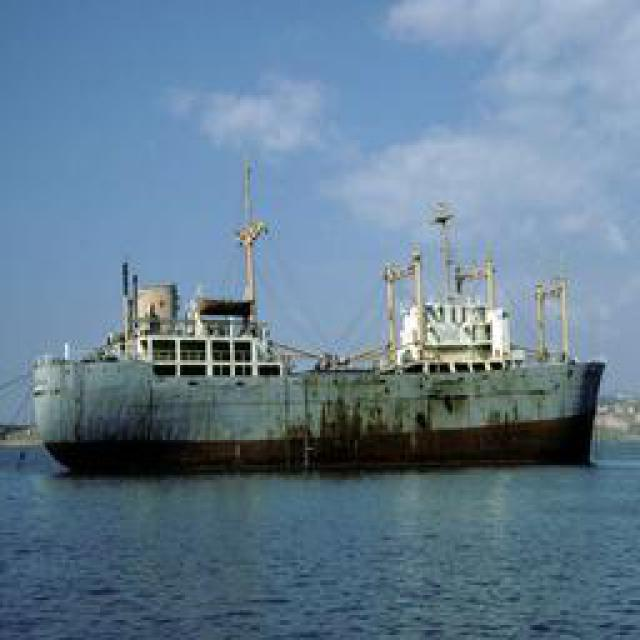Ship: (31, 185, 601, 473)
